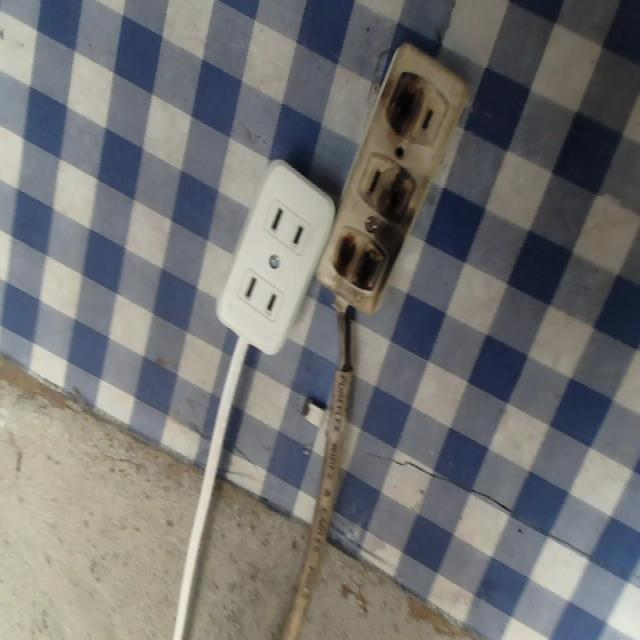-: (333, 224, 388, 304), (379, 60, 428, 145), (380, 162, 415, 226)
